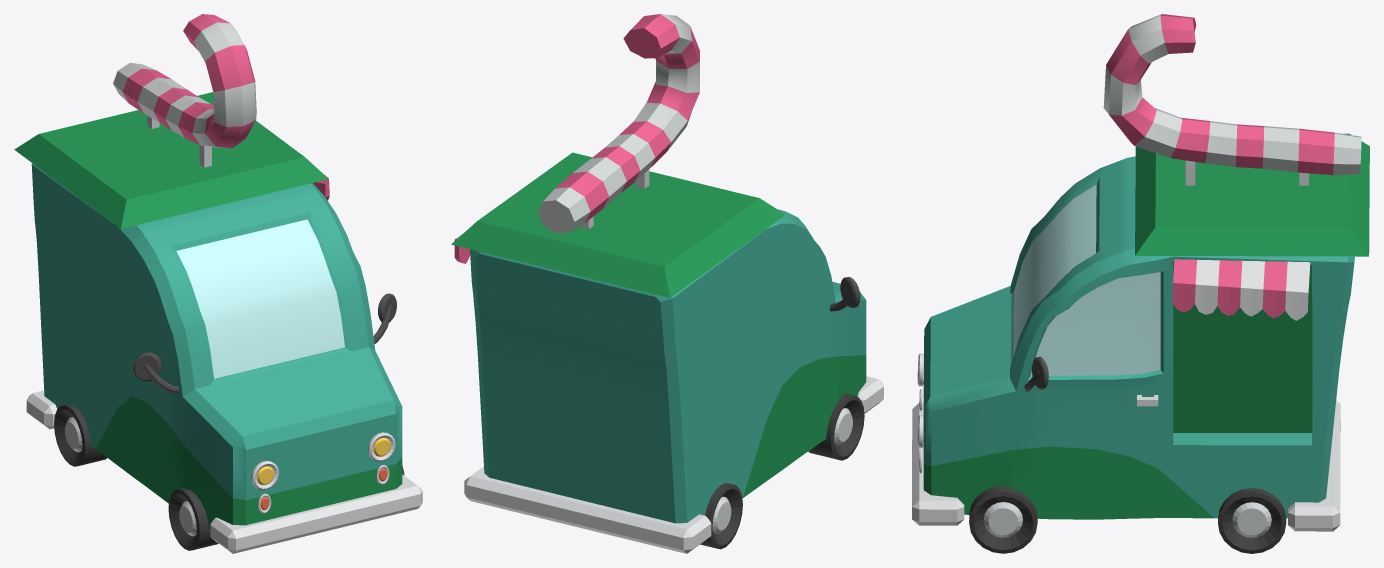
Rendered from _andy_car.fbx.
3 renders of one model, left to right at view 1: azimuth 30°, elevation 25°; view 2: azimuth 150°, elevation 25°; view 3: azimuth 270°, elevation 25°, orthographic. The views are drawn at different scales.
Parts seen in each view (by area): view 1: candy_car; view 2: candy_car; view 3: candy_car.
Part boxes in pixels (box(x1,y1,x2,y2)): candy_car: box(14, 14, 422, 553); candy_car: box(451, 14, 883, 553); candy_car: box(912, 14, 1369, 553).
Size of the model in its own units: 47.73 by 77.65 by 66.4.
